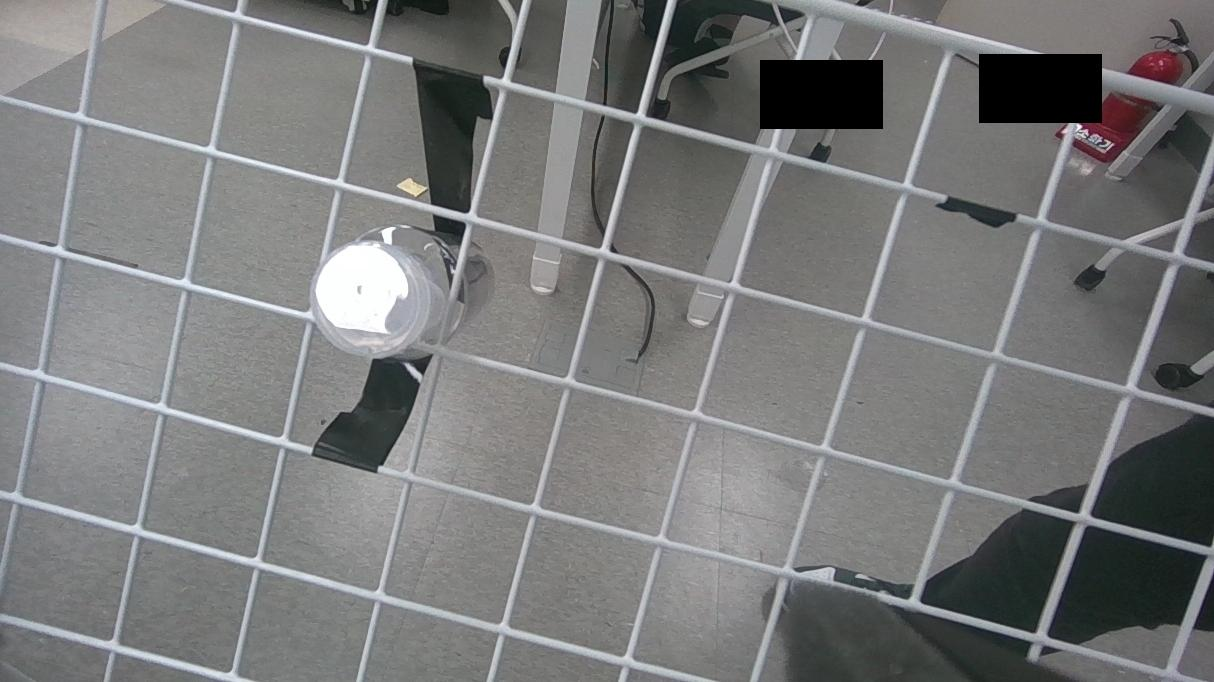Cap: (311, 242, 431, 358)
